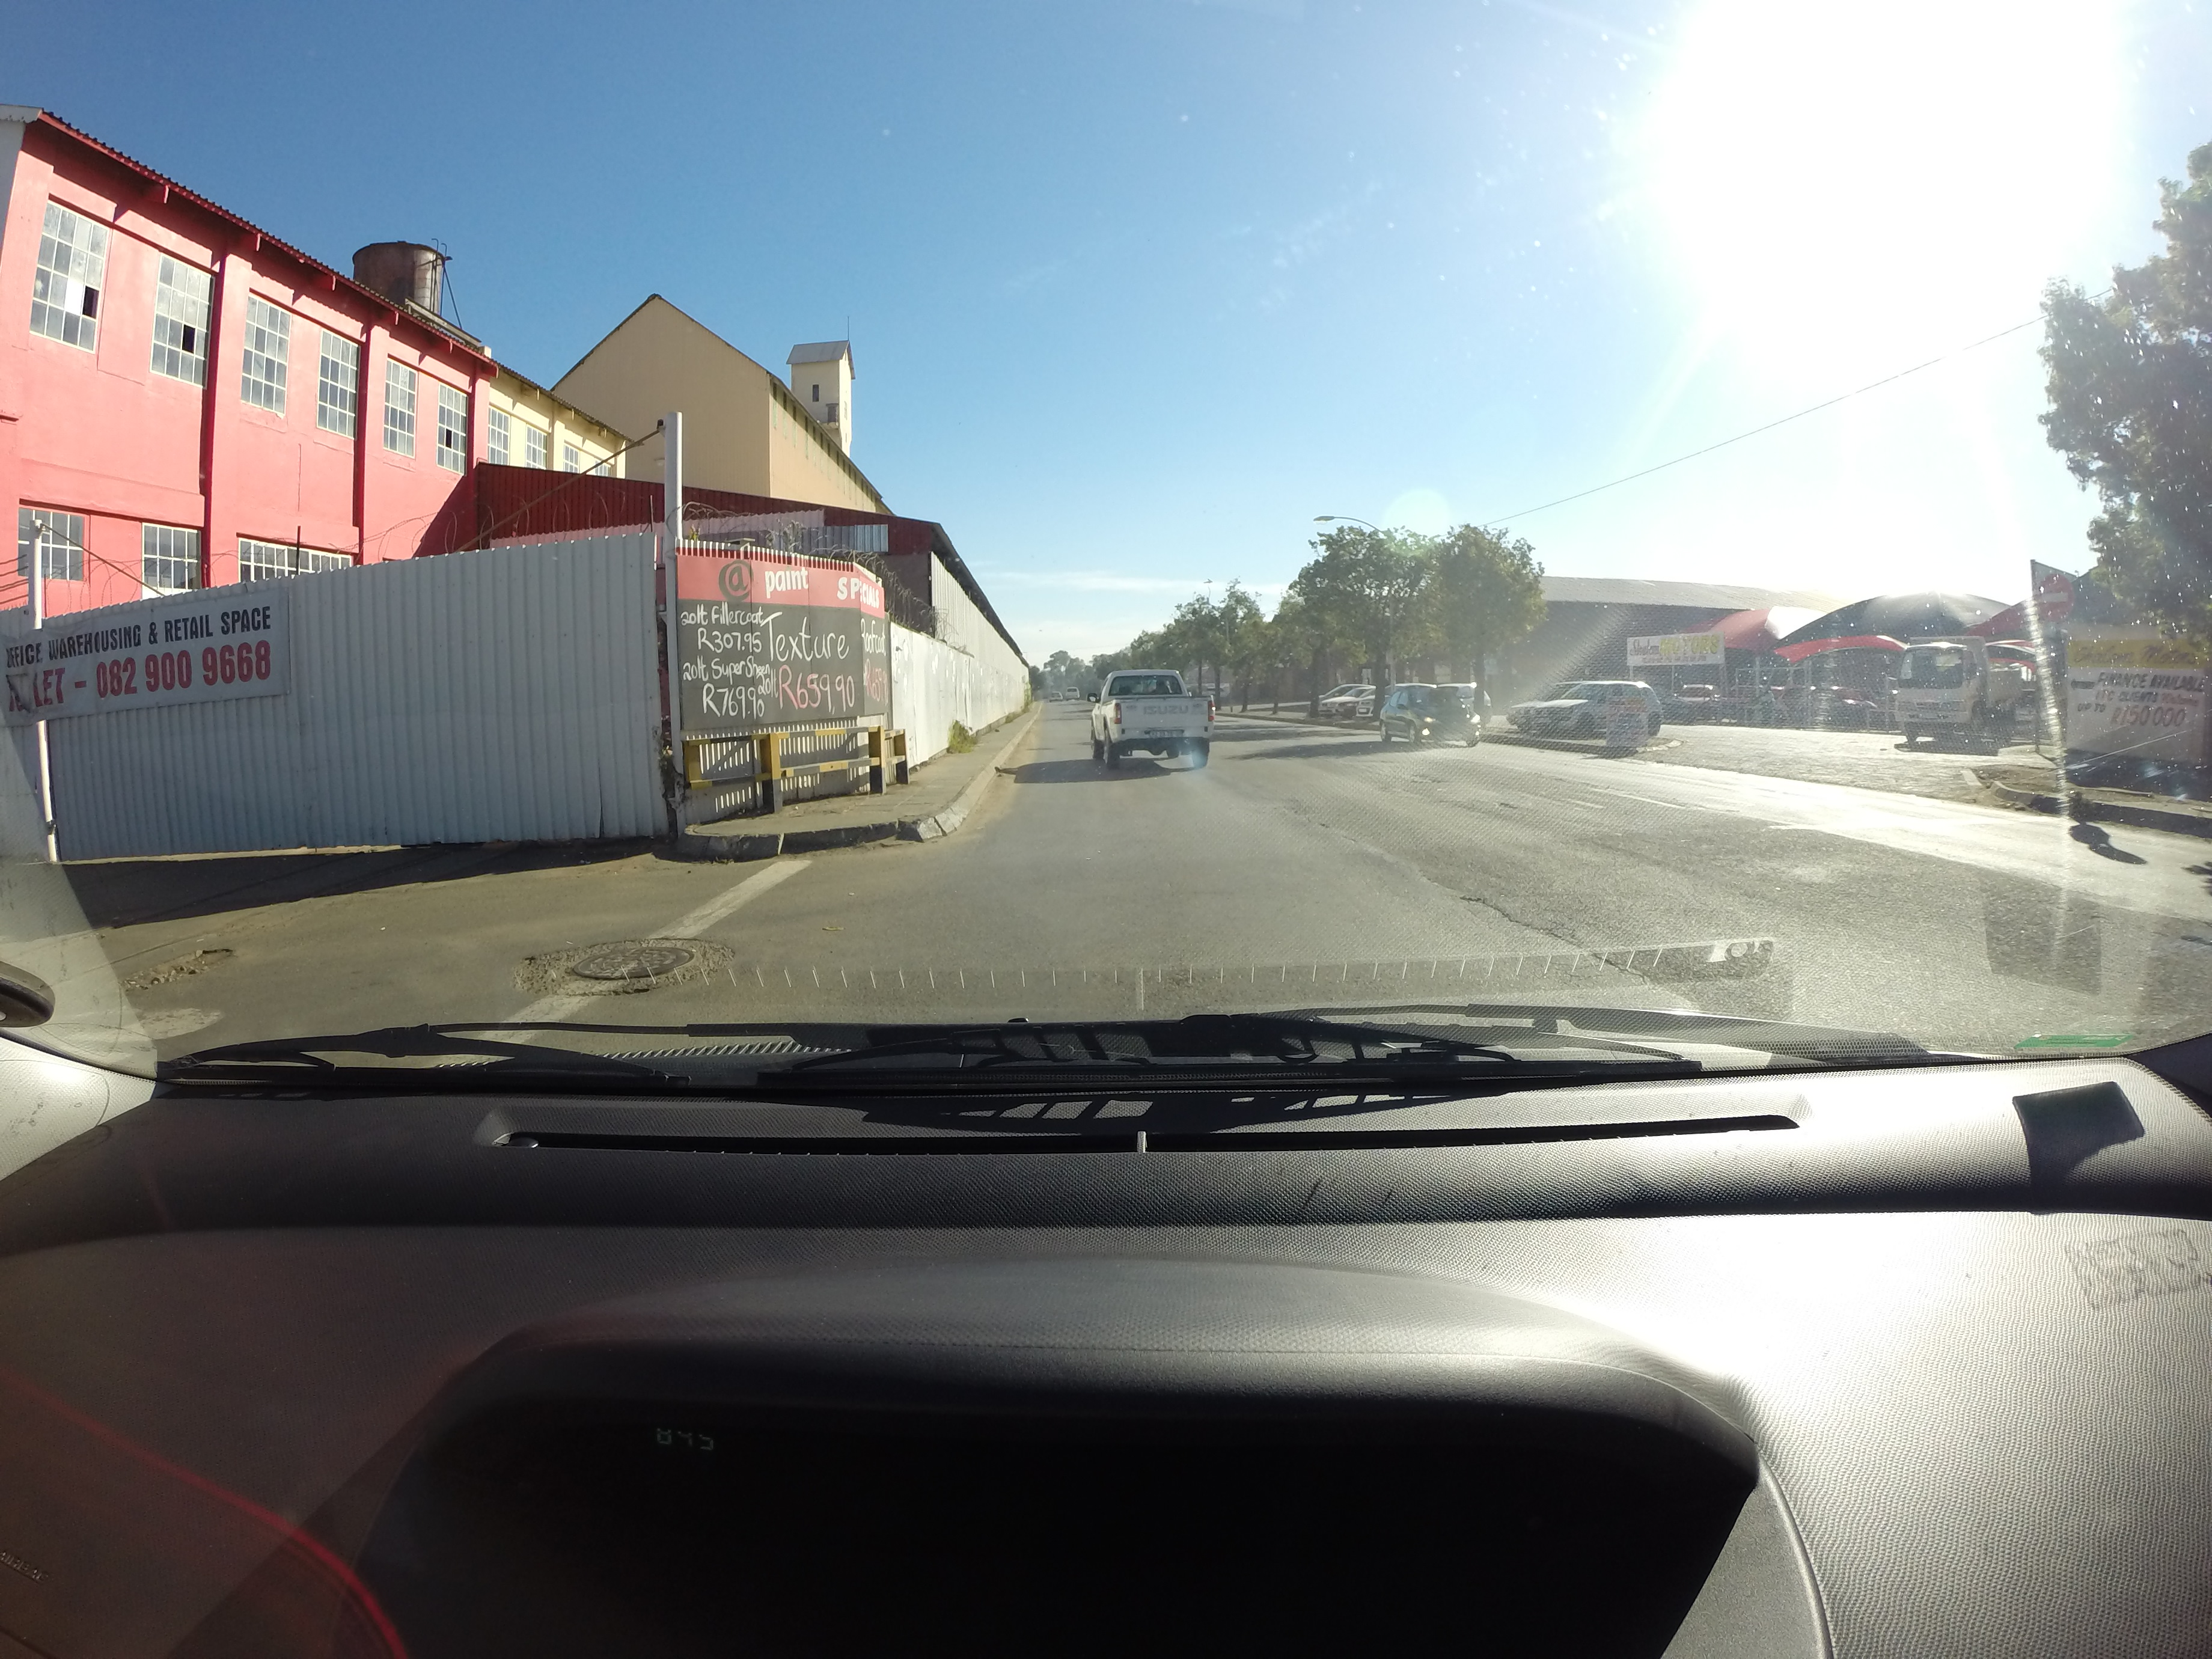pothole: (493, 917, 777, 1025)
